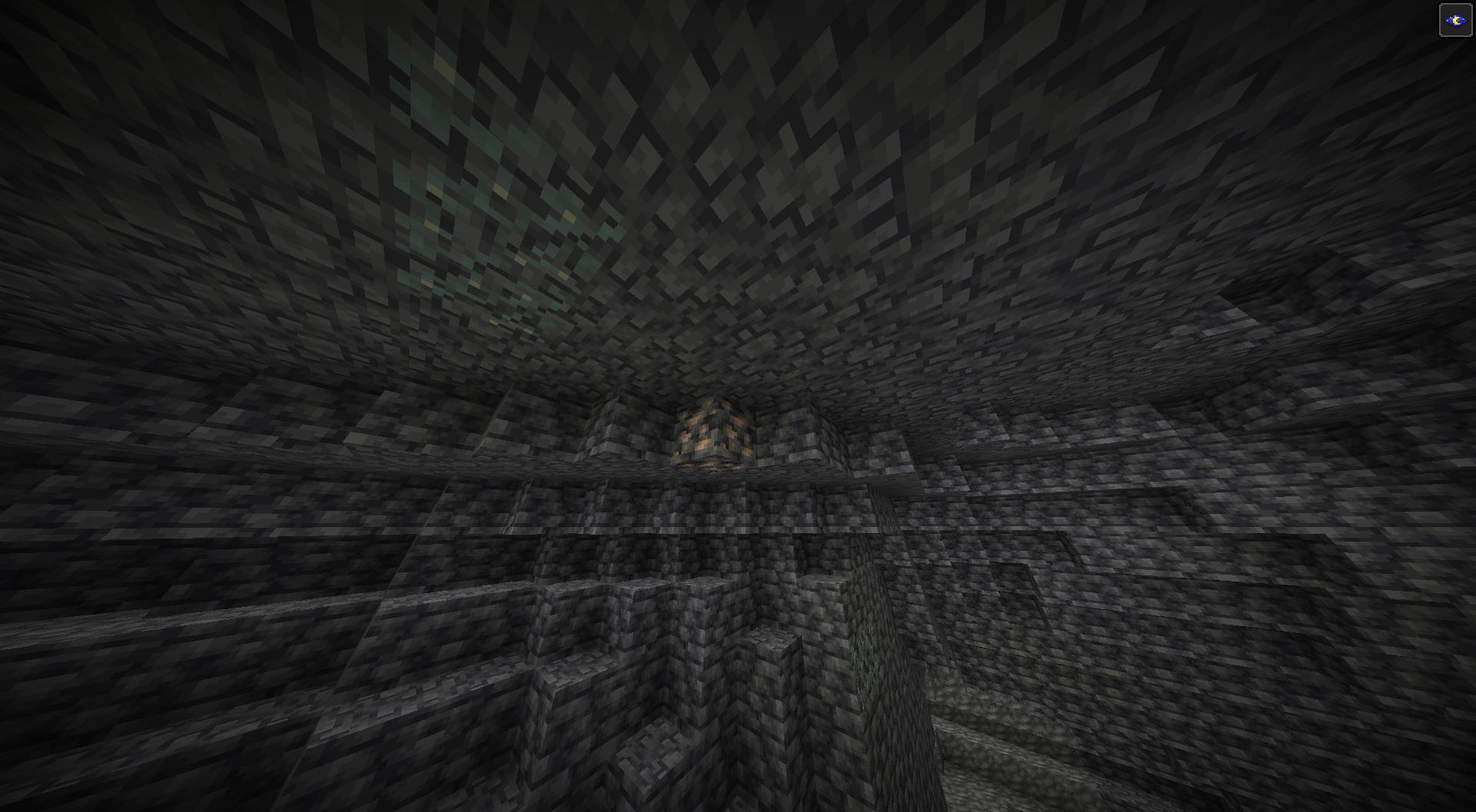iron ore: (667, 397, 717, 454), (717, 395, 759, 454), (689, 455, 746, 474)
